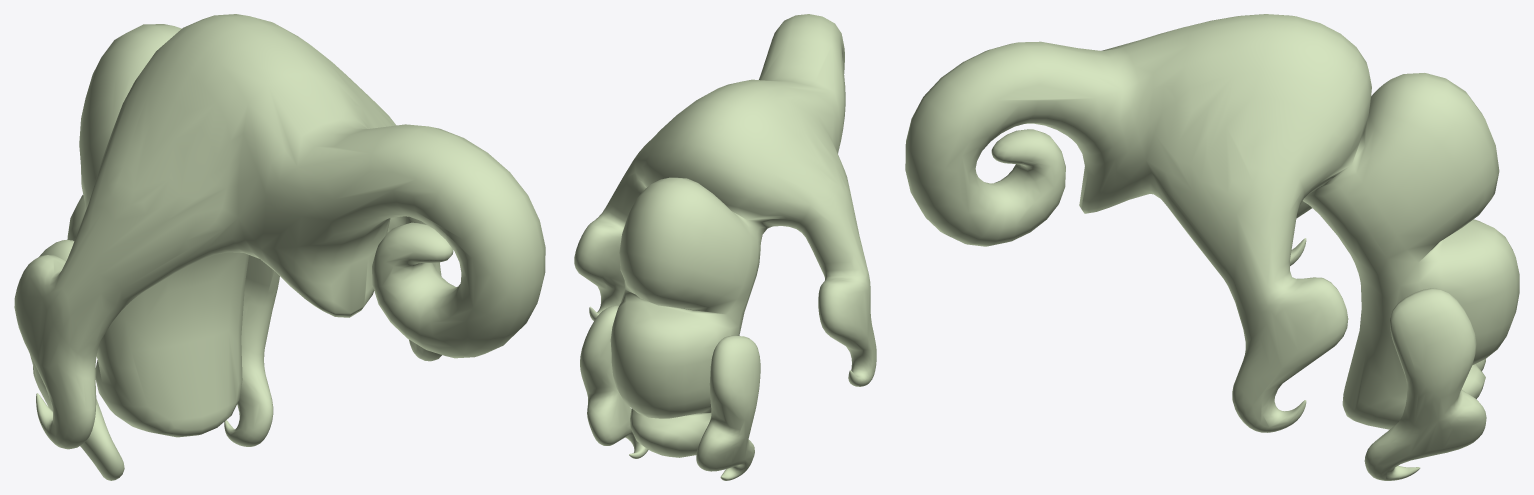
Rendered from Mane_05.fbx.
The picture shows the model from 3 angles, left to right: view 1: azimuth 30°, elevation 25°; view 2: azimuth 150°, elevation 25°; view 3: azimuth 270°, elevation 25°; orthographic projection. The views are drawn at different scales.
Parts seen in each view (by area): view 1: Mane_05; view 2: Mane_05; view 3: Mane_05.
Boxes of the visible parts, left/top/right/bottom form: Mane_05: left=14, top=14, right=545, bottom=480; Mane_05: left=574, top=14, right=876, bottom=480; Mane_05: left=905, top=14, right=1519, bottom=480.
Bounding box in the file's own units: 161 × 188 × 242.
